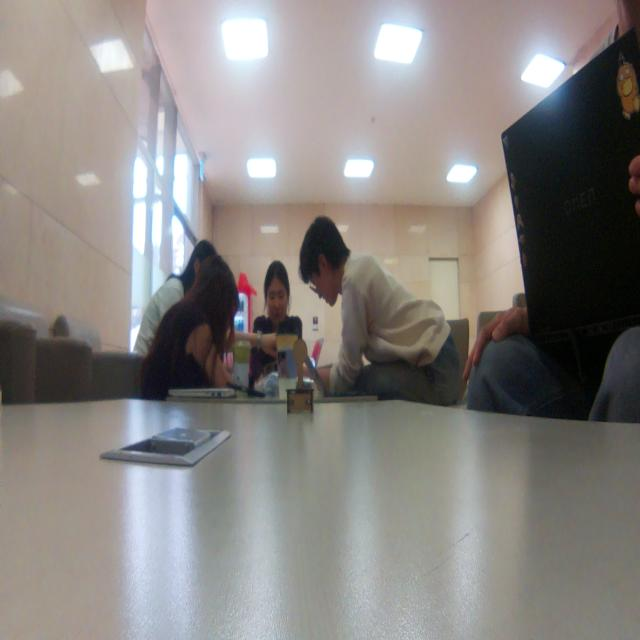target: (286, 338, 314, 413)
